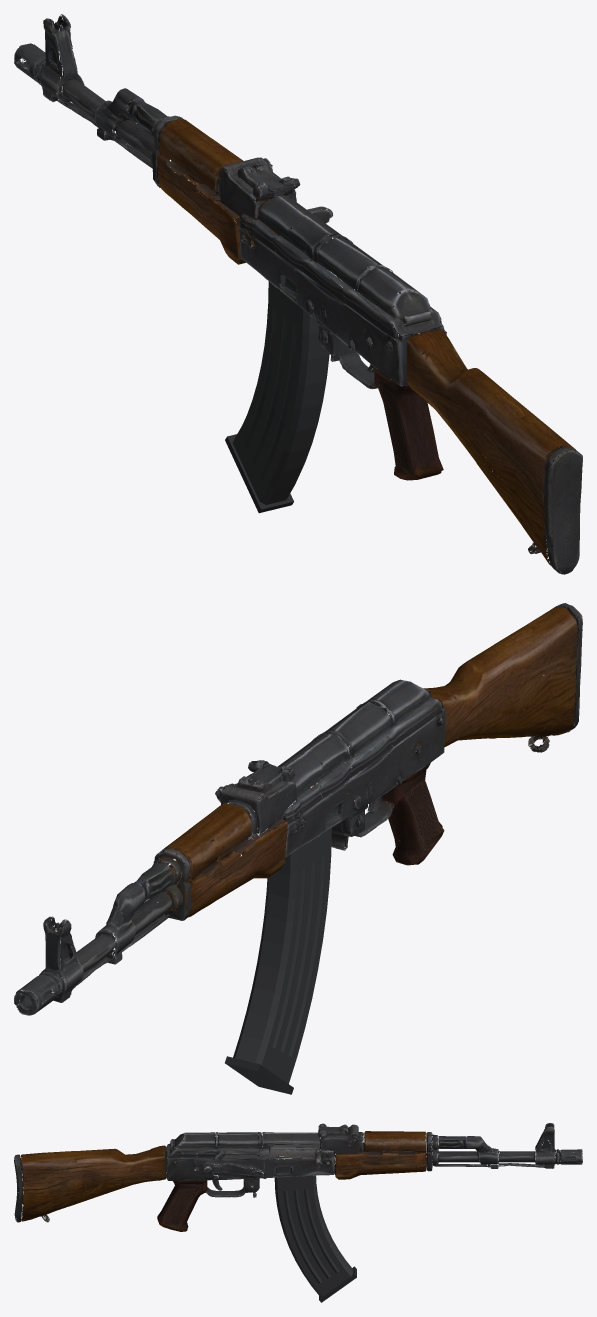
3 views of the same model, one above another, from view 1: azimuth 30°, elevation 25°; view 2: azimuth 150°, elevation 25°; view 3: azimuth 270°, elevation 25° (orthographic). The views are drawn at different scales.
Visible parts, largest first — view 1: Body, Magazine; view 2: Body, Magazine; view 3: Body, Magazine.
Boxes of the visible parts, x1,y1,x2,y2 form: Body: (14, 14, 582, 574); Magazine: (225, 262, 329, 513); Body: (14, 603, 582, 1015); Magazine: (225, 800, 331, 1094); Body: (14, 1123, 582, 1231); Magazine: (274, 1159, 356, 1302).
Size of the model in its own units: 0.0759 by 0.2971 by 0.881.
Materials: 3 (1 with a texture image).
